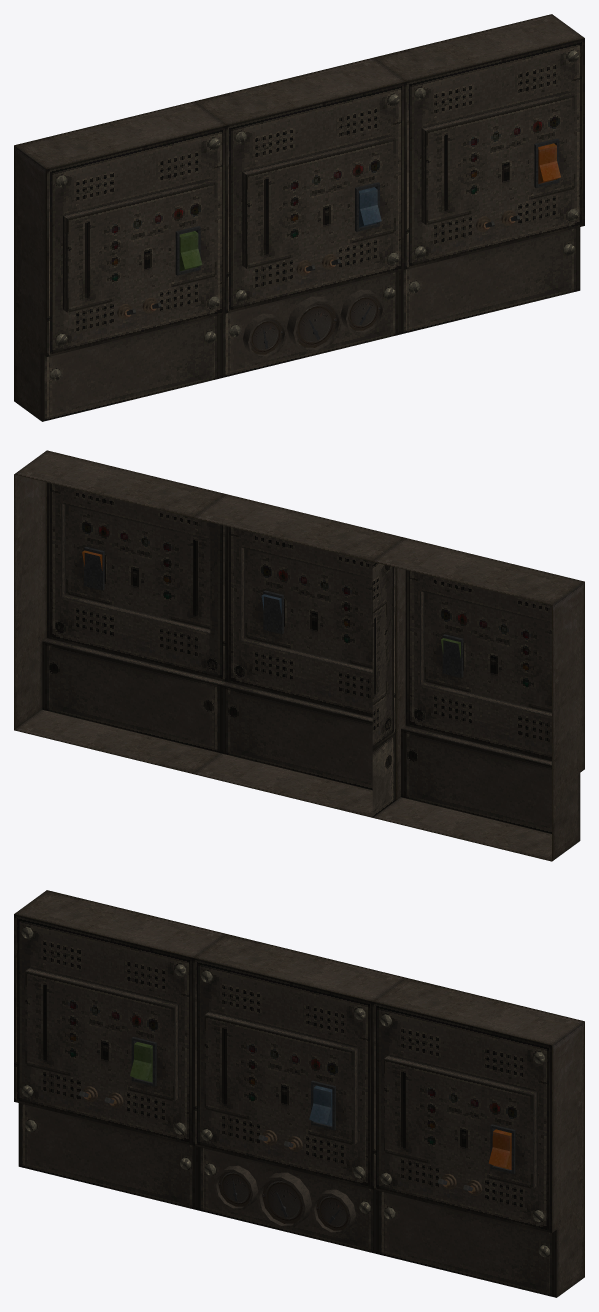
Rendered from panel_etx_2_1.glb.
The picture shows the model from 3 angles, top to bottom: view 1: azimuth 30°, elevation 25°; view 2: azimuth 150°, elevation 25°; view 3: azimuth 330°, elevation 25°; orthographic projection.
Parts seen in each view (by area): view 1: panel_etx_2_1; view 2: panel_etx_2_1; view 3: panel_etx_2_1.
Boxes of the visible parts, left/top/right/bottom form: panel_etx_2_1: left=14, top=14, right=584, bottom=421; panel_etx_2_1: left=14, top=450, right=584, bottom=861; panel_etx_2_1: left=14, top=890, right=584, bottom=1297.
Size of the model in its own units: 1.32 by 0.6 by 0.1866.
2 materials, 2 textured.
